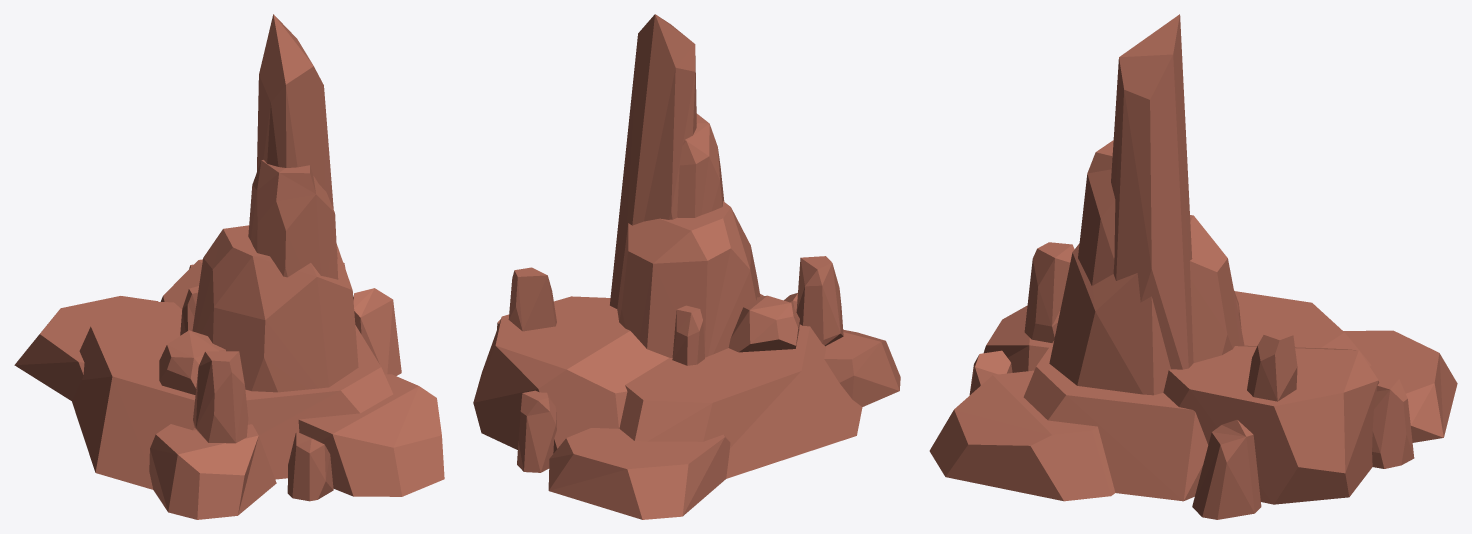
File: rock_008.fbx
3 views of the same model, side by side, from view 1: azimuth 30°, elevation 25°; view 2: azimuth 150°, elevation 25°; view 3: azimuth 270°, elevation 25° (orthographic). The views are drawn at different scales.
Parts seen in each view (by area): view 1: rock_008; view 2: rock_008; view 3: rock_008.
Part boxes in pixels (left/top/right/bottom): rock_008: left=14, top=14, right=444, bottom=519; rock_008: left=473, top=14, right=900, bottom=519; rock_008: left=929, top=14, right=1457, bottom=519.
Bounding box in the file's own units: 1651 × 2083 × 1874.
